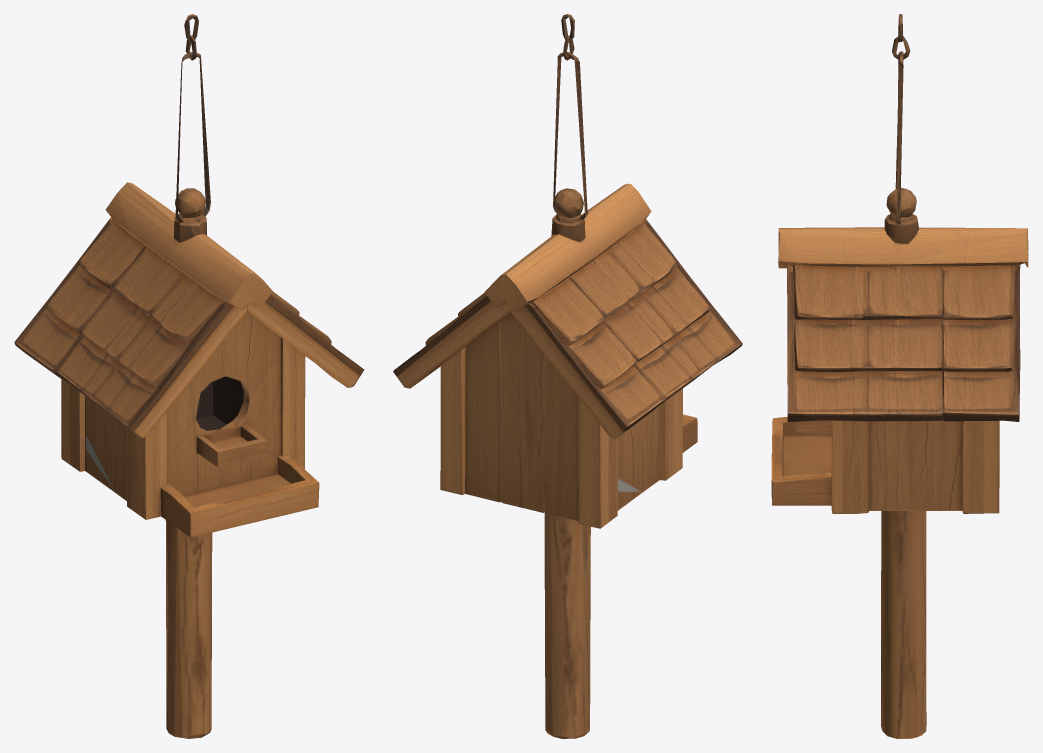
The model's file is bird_feeder.glb.
3 views of the same model, side by side, from view 1: azimuth 30°, elevation 25°; view 2: azimuth 150°, elevation 25°; view 3: azimuth 270°, elevation 25° (orthographic).
Size of the model in its own units: 0.653 by 1.9 by 0.6182.
Materials: 1 (1 with a texture image).
